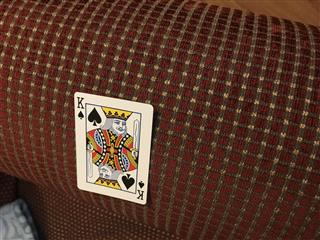KingOfSpades: (72, 90, 154, 205)
